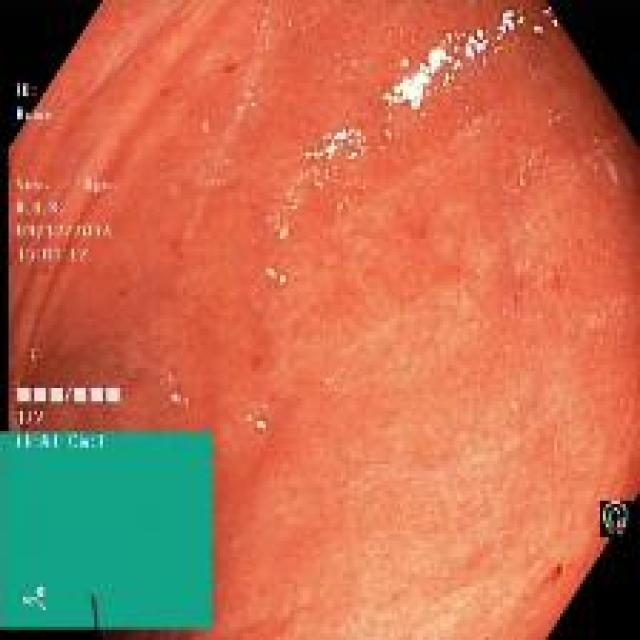ulcerative-colitis-grade-1: (9, 1, 640, 638)
